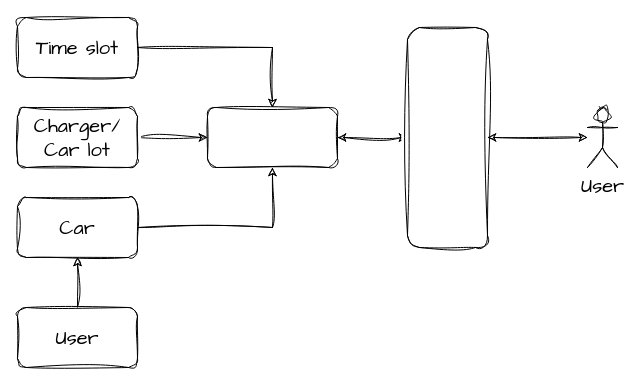
Some shapes in this 641 by 385 pixel diagram are drawn without their labels. Each missing label, with the centre of its shape:
"Flask API" belongs at (447,137).
"Reservation" belongs at (272,137).
